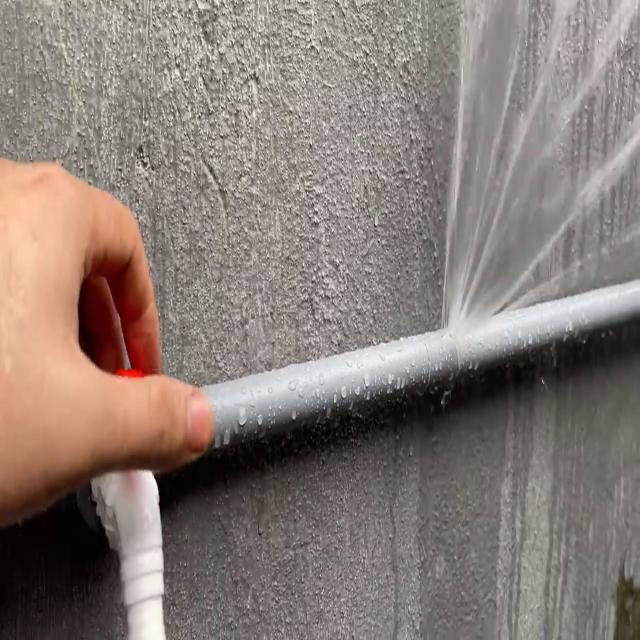leak: (440, 3, 640, 335)
